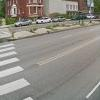Crosswalk: (1, 39, 30, 100)
